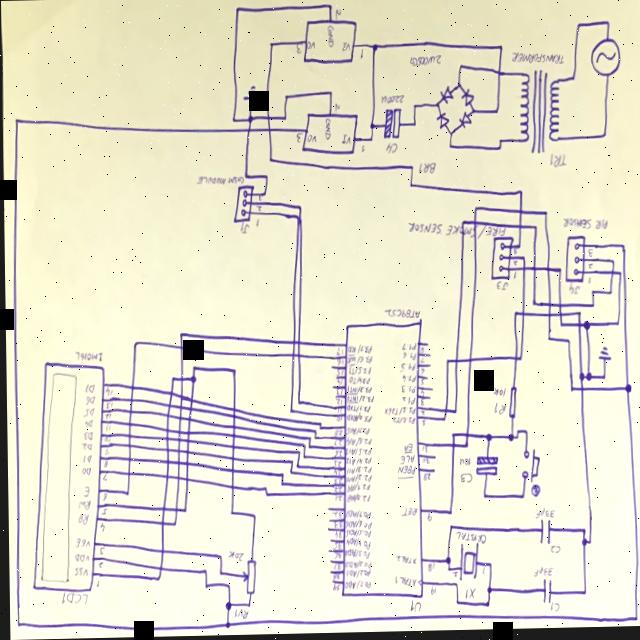capacitor: (382, 109, 400, 141), (472, 456, 497, 479), (537, 520, 549, 547), (540, 580, 550, 606)
crossover: (156, 546, 164, 556), (516, 208, 522, 219), (264, 113, 270, 123), (544, 266, 550, 276), (530, 265, 536, 275), (177, 374, 183, 384), (158, 505, 165, 513), (227, 468, 234, 476), (495, 70, 501, 79), (577, 387, 583, 396), (515, 224, 521, 233), (175, 414, 181, 423), (174, 447, 180, 456), (173, 459, 179, 468), (228, 484, 234, 492), (155, 565, 161, 573), (228, 444, 234, 452), (265, 126, 271, 134), (245, 127, 251, 135), (157, 520, 163, 528), (176, 344, 182, 352), (471, 221, 477, 229), (519, 266, 525, 274), (162, 473, 168, 481), (162, 458, 168, 466), (173, 474, 179, 482), (182, 476, 188, 484), (184, 428, 190, 436), (175, 428, 181, 436), (163, 412, 169, 420), (162, 426, 168, 434), (187, 396, 193, 404), (186, 405, 192, 413), (177, 394, 183, 402), (167, 390, 173, 398), (184, 416, 190, 424), (171, 506, 177, 514), (182, 449, 188, 457), (182, 460, 188, 468), (162, 447, 168, 455), (228, 456, 234, 464), (176, 404, 182, 411), (162, 436, 168, 443), (183, 438, 189, 445), (229, 433, 235, 440), (608, 271, 613, 279), (174, 437, 180, 443), (229, 424, 235, 430), (124, 470, 129, 477), (449, 443, 454, 450), (230, 407, 235, 414), (289, 352, 293, 360), (295, 339, 299, 347), (291, 339, 295, 347), (229, 414, 234, 420), (295, 353, 299, 360), (546, 314, 550, 321), (576, 324, 580, 331), (125, 443, 129, 449), (126, 433, 130, 439), (125, 421, 129, 427), (125, 456, 129, 462), (126, 409, 130, 415), (128, 398, 132, 404), (129, 385, 133, 391), (166, 403, 170, 409), (463, 433, 467, 439), (441, 409, 445, 415), (452, 359, 456, 365), (466, 359, 470, 365), (512, 357, 516, 363), (520, 313, 524, 319), (557, 314, 561, 320), (557, 304, 561, 310), (546, 304, 550, 310)
diode: (439, 86, 453, 106), (460, 89, 474, 108), (457, 112, 471, 131), (435, 113, 449, 131)
ground: (595, 346, 611, 365), (242, 85, 258, 102)
junction: (622, 385, 630, 397), (222, 601, 230, 612), (370, 44, 378, 54), (603, 20, 611, 30), (222, 621, 229, 631), (233, 5, 240, 15), (266, 155, 273, 165), (246, 115, 253, 125), (581, 322, 588, 332), (576, 374, 583, 384), (131, 339, 137, 349), (599, 375, 605, 385), (630, 616, 636, 626), (567, 386, 573, 396), (215, 554, 222, 562), (122, 489, 129, 497), (483, 588, 490, 596), (188, 376, 195, 384), (479, 493, 485, 502), (457, 64, 463, 73), (579, 590, 585, 599), (497, 44, 503, 53), (600, 133, 606, 142), (408, 165, 414, 174), (584, 374, 590, 383), (445, 509, 451, 518), (229, 367, 235, 376), (564, 339, 570, 348), (531, 225, 537, 234), (177, 331, 183, 340), (484, 435, 490, 444), (579, 540, 585, 549), (443, 558, 449, 566), (368, 123, 374, 131), (407, 183, 413, 191), (446, 144, 452, 152), (570, 76, 576, 84), (268, 41, 274, 49), (201, 583, 207, 591), (410, 104, 416, 112), (13, 619, 19, 627), (227, 509, 233, 517), (200, 568, 206, 576), (215, 570, 221, 578), (493, 109, 499, 117), (443, 359, 449, 367), (530, 301, 536, 309), (455, 83, 461, 91), (519, 256, 525, 264), (180, 507, 186, 515), (153, 575, 159, 583), (169, 521, 175, 529), (224, 583, 230, 591), (190, 365, 196, 373), (168, 376, 174, 384), (506, 435, 512, 443), (458, 220, 464, 228), (281, 116, 287, 123), (619, 245, 625, 252), (411, 122, 416, 130), (250, 513, 255, 521), (263, 173, 268, 181), (327, 3, 332, 11), (13, 117, 18, 125), (517, 190, 522, 198), (575, 23, 580, 31), (515, 244, 520, 252), (230, 116, 234, 125), (368, 137, 373, 144), (328, 90, 333, 97), (283, 94, 288, 101), (243, 173, 248, 180), (609, 260, 614, 267), (518, 494, 522, 502), (295, 215, 299, 223), (556, 268, 560, 276), (542, 211, 546, 219), (580, 528, 584, 536), (261, 191, 266, 197), (606, 292, 611, 298), (496, 147, 501, 153), (449, 433, 454, 439), (448, 133, 453, 139), (557, 324, 562, 330), (575, 312, 580, 318), (297, 205, 301, 212), (590, 291, 594, 298), (434, 103, 438, 110), (244, 602, 248, 609), (263, 492, 267, 499), (295, 400, 299, 407), (483, 602, 487, 609), (546, 337, 550, 344), (589, 304, 593, 311), (472, 207, 476, 214), (288, 409, 292, 415), (614, 323, 618, 329), (522, 430, 526, 436), (451, 410, 455, 416), (278, 482, 282, 488), (616, 273, 620, 279), (497, 140, 501, 146), (287, 470, 291, 476), (278, 473, 282, 479), (517, 357, 521, 363), (452, 583, 456, 589), (295, 450, 299, 456), (513, 430, 517, 436), (471, 110, 475, 116), (261, 486, 265, 492), (288, 460, 292, 466), (293, 464, 297, 470), (300, 454, 304, 460), (300, 443, 304, 449), (305, 445, 309, 451), (306, 436, 310, 442), (444, 568, 448, 574), (447, 525, 451, 531), (453, 601, 457, 607), (486, 563, 490, 569), (462, 444, 466, 450), (440, 418, 444, 424), (512, 312, 516, 318), (585, 541, 589, 547), (317, 427, 321, 432), (311, 430, 315, 435), (311, 436, 315, 441), (316, 422, 320, 427), (513, 437, 517, 442)
resistor: (239, 560, 255, 596), (506, 387, 516, 421)
source: (589, 39, 621, 80)
switch: (518, 450, 539, 486)
terminal: (562, 237, 585, 286), (488, 238, 513, 283), (231, 185, 254, 224)
text: (406, 221, 504, 243), (509, 52, 566, 68), (561, 218, 607, 234), (195, 175, 243, 187), (57, 591, 87, 607), (453, 532, 484, 546), (383, 309, 419, 321), (409, 56, 441, 69), (344, 538, 369, 553), (73, 350, 101, 363), (382, 407, 414, 418), (342, 580, 369, 593), (344, 436, 370, 449), (342, 519, 370, 531), (393, 554, 415, 569), (530, 566, 551, 581), (343, 569, 369, 581), (342, 549, 368, 561), (343, 510, 369, 522), (393, 575, 415, 589), (345, 395, 373, 406), (346, 345, 371, 357), (394, 466, 414, 481), (344, 493, 368, 505), (345, 482, 369, 494), (532, 508, 554, 521), (342, 560, 370, 570), (417, 162, 435, 177), (343, 448, 370, 458), (344, 414, 371, 424), (343, 530, 369, 540), (344, 457, 370, 467), (345, 386, 371, 396), (345, 357, 371, 367), (347, 366, 370, 377), (548, 155, 566, 169), (389, 417, 414, 427), (347, 376, 369, 387), (379, 95, 403, 105), (344, 427, 368, 437), (345, 405, 369, 415), (344, 475, 370, 484), (344, 467, 370, 476), (231, 608, 247, 621), (399, 507, 416, 519), (566, 283, 579, 298), (72, 552, 88, 564), (225, 550, 241, 562), (326, 26, 334, 49), (461, 588, 475, 601), (491, 403, 504, 417), (71, 565, 86, 577), (407, 600, 419, 615), (323, 119, 331, 141), (73, 537, 87, 549), (80, 406, 94, 418), (75, 499, 89, 511), (75, 512, 87, 526), (397, 364, 413, 374), (397, 456, 413, 466), (491, 388, 504, 400), (401, 352, 415, 363), (399, 385, 413, 396), (384, 143, 396, 155), (82, 394, 94, 406), (399, 375, 415, 384), (458, 474, 471, 485), (400, 397, 414, 407), (547, 546, 559, 557), (340, 134, 350, 147), (239, 221, 249, 234), (456, 458, 470, 467), (400, 344, 415, 352), (495, 282, 507, 292), (340, 42, 350, 53), (83, 382, 93, 393), (79, 466, 90, 476), (401, 444, 411, 455), (547, 603, 557, 614), (306, 135, 316, 145), (305, 41, 315, 51), (82, 418, 92, 428), (82, 430, 92, 440), (80, 454, 90, 464), (79, 442, 91, 450), (329, 512, 341, 520), (104, 386, 112, 397), (295, 43, 302, 55), (81, 486, 88, 498), (295, 133, 303, 143), (421, 473, 429, 483), (334, 347, 342, 357), (331, 430, 341, 438), (330, 583, 338, 593), (330, 543, 340, 551), (331, 521, 341, 529), (330, 461, 340, 469), (425, 564, 433, 574), (335, 9, 341, 21), (98, 507, 107, 515), (332, 440, 341, 448), (331, 470, 341, 477), (97, 521, 103, 532), (104, 401, 112, 409), (419, 447, 427, 455), (420, 458, 428, 466), (333, 370, 341, 378), (330, 573, 338, 581), (331, 564, 339, 572), (331, 552, 339, 560), (332, 532, 340, 540), (332, 450, 340, 458), (103, 424, 110, 433), (333, 104, 339, 114), (330, 488, 340, 494), (428, 587, 434, 597), (424, 514, 430, 524), (102, 412, 110, 419), (254, 205, 261, 213), (333, 399, 341, 406), (332, 496, 340, 503), (332, 479, 340, 486), (448, 572, 455, 580), (97, 546, 103, 555), (586, 250, 592, 259), (100, 492, 105, 502), (334, 389, 341, 396), (359, 49, 363, 61), (95, 561, 101, 569), (100, 473, 106, 481), (102, 447, 108, 455), (101, 437, 109, 443), (417, 379, 423, 387), (335, 379, 341, 387), (335, 359, 341, 367), (101, 459, 106, 468), (334, 417, 340, 424), (586, 264, 592, 271), (360, 144, 364, 154), (94, 578, 98, 588), (254, 218, 258, 228), (419, 420, 424, 428), (479, 568, 483, 578), (418, 411, 424, 417), (586, 278, 590, 287), (256, 195, 261, 202), (418, 358, 423, 365), (335, 408, 340, 415), (419, 347, 423, 355), (419, 390, 423, 398), (419, 399, 423, 407), (511, 273, 515, 281), (512, 249, 516, 257), (511, 262, 516, 268), (419, 369, 423, 376)
transformer: (516, 69, 559, 156)
